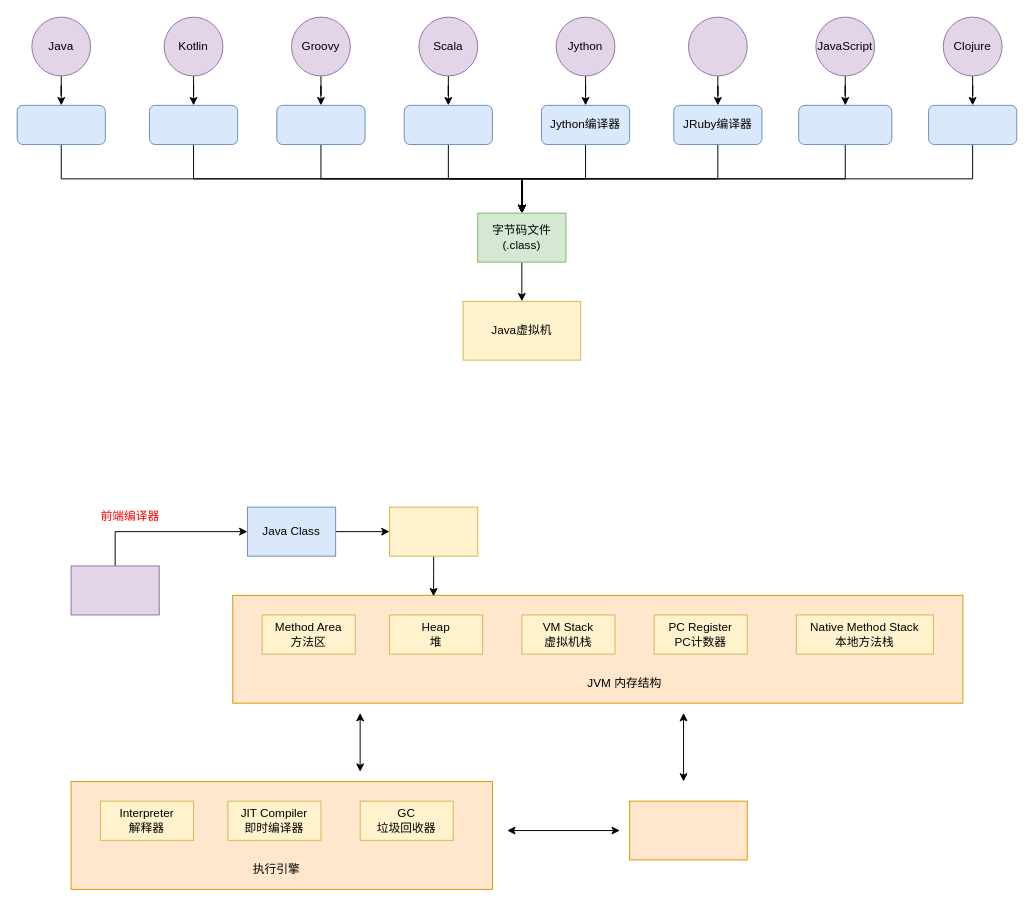
The diagram is 1034 pixels wide and 907 high, and some of its shapes have lost their labels. The shapes that lost their labels are listed below. From the top down, each one's box as (x1, y1, x2, y2) in pixels, then its label:
(687, 16, 747, 76): JRuby
(16, 104, 105, 145): Java编译器
(148, 104, 238, 145): Kotlin编译器
(276, 104, 365, 145): Groovy编译器
(403, 104, 492, 145): Scala编译器
(798, 104, 892, 145): JavaScript编译器
(928, 104, 1017, 145): Clojure编译器
(389, 506, 478, 556): ClassLoader
(70, 565, 159, 615): Java Source
(629, 800, 747, 860): 本地方法接口
